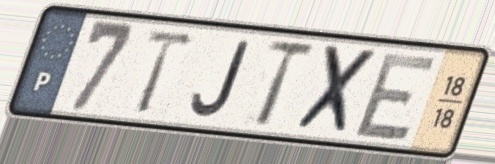7: (70, 16, 138, 116)
E: (349, 51, 442, 143)
J: (189, 38, 254, 121)
T: (251, 39, 318, 131), (133, 27, 200, 117)
X: (290, 42, 381, 139)
